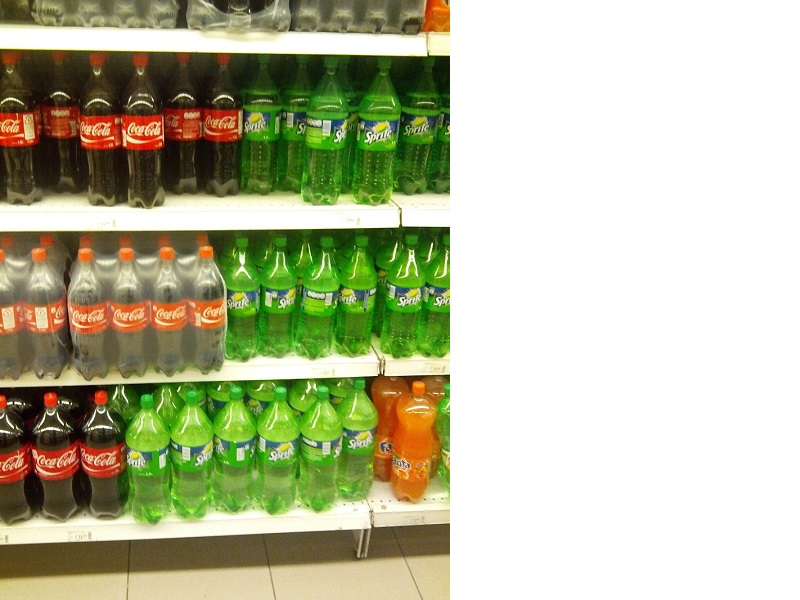lemonade: (115, 47, 178, 218), (299, 50, 357, 211), (1, 51, 56, 216), (78, 48, 132, 216), (25, 391, 90, 527), (377, 230, 437, 370), (351, 53, 401, 216), (199, 50, 249, 204), (76, 389, 132, 524), (254, 229, 307, 366), (239, 48, 285, 204), (125, 392, 175, 534), (398, 53, 443, 209), (292, 227, 342, 364), (169, 388, 219, 525), (256, 383, 305, 522), (218, 228, 266, 369), (390, 380, 441, 511), (333, 229, 380, 364)
